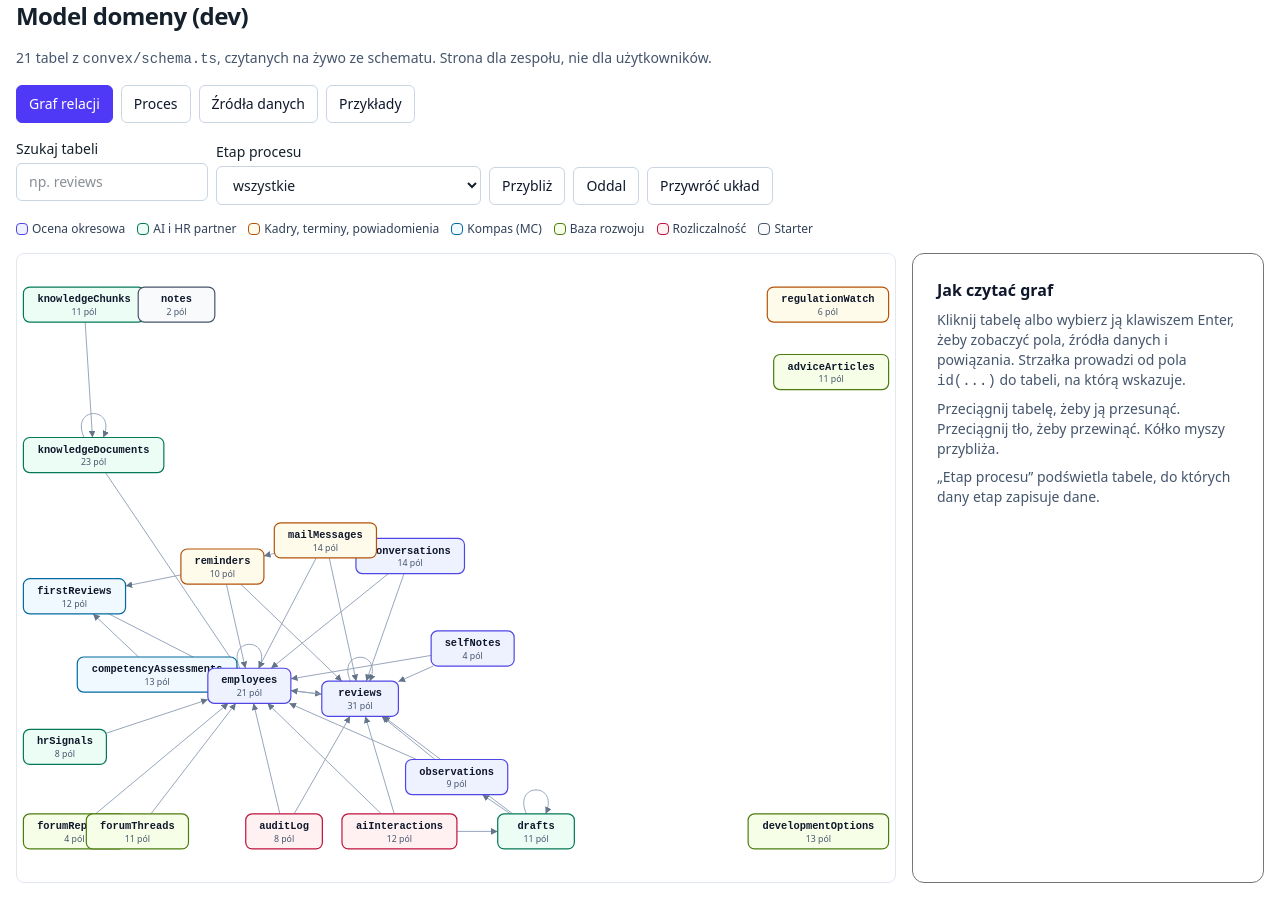
Test: relation graph › switches to the process view
Click the button "Proces": click(156, 104) [121,85,191,123]
(page scrolled)
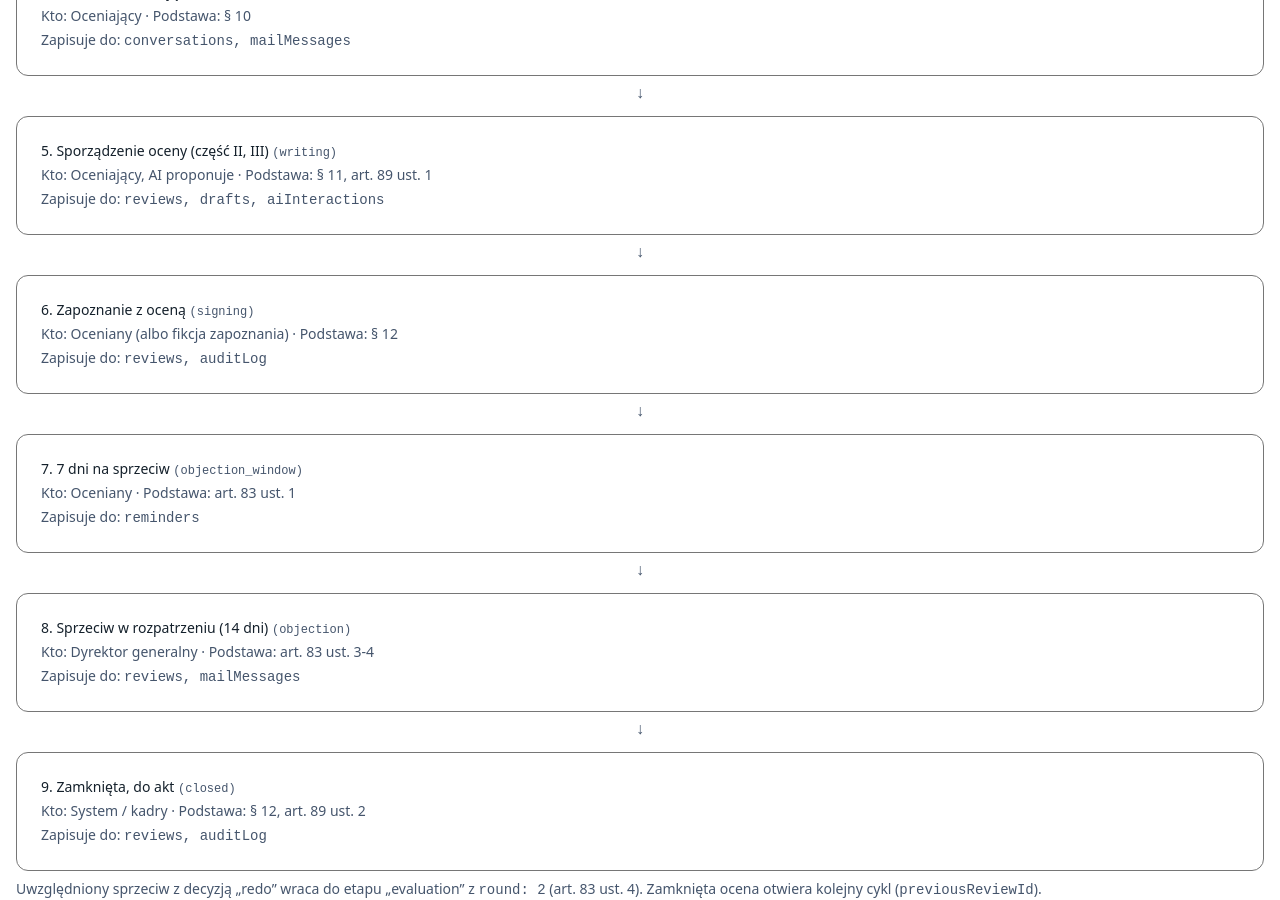
Check: the text "8. Sprzeciw w rozpatrzeniu (14 dni) (objection)" is shown, box [41,618,351,637]
